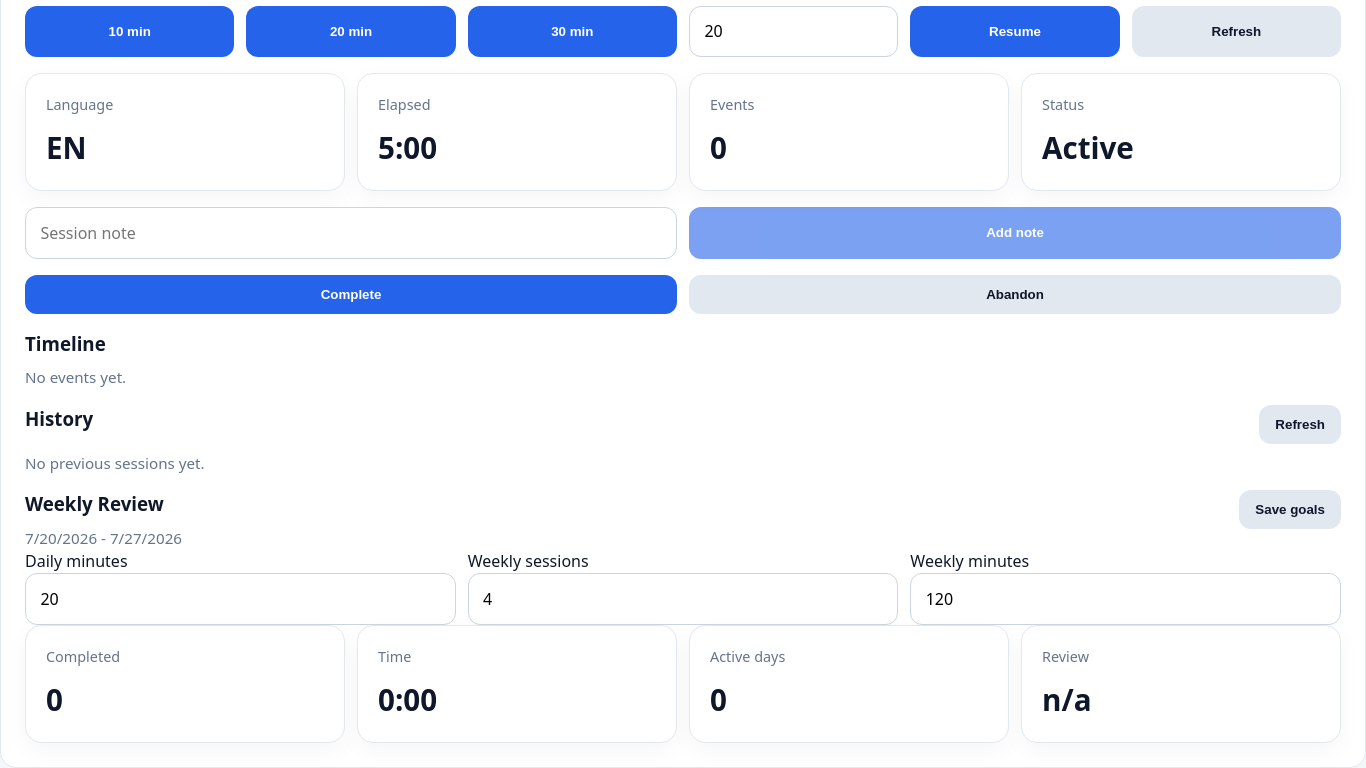
LearningSessionPanel.vue › validates goals locally and preserves canonical values after server validation failure
(page scrolled)
Replace the text in the number field labelled "Daily minutes" with "481" at (240, 599), box [25,573,456,625]
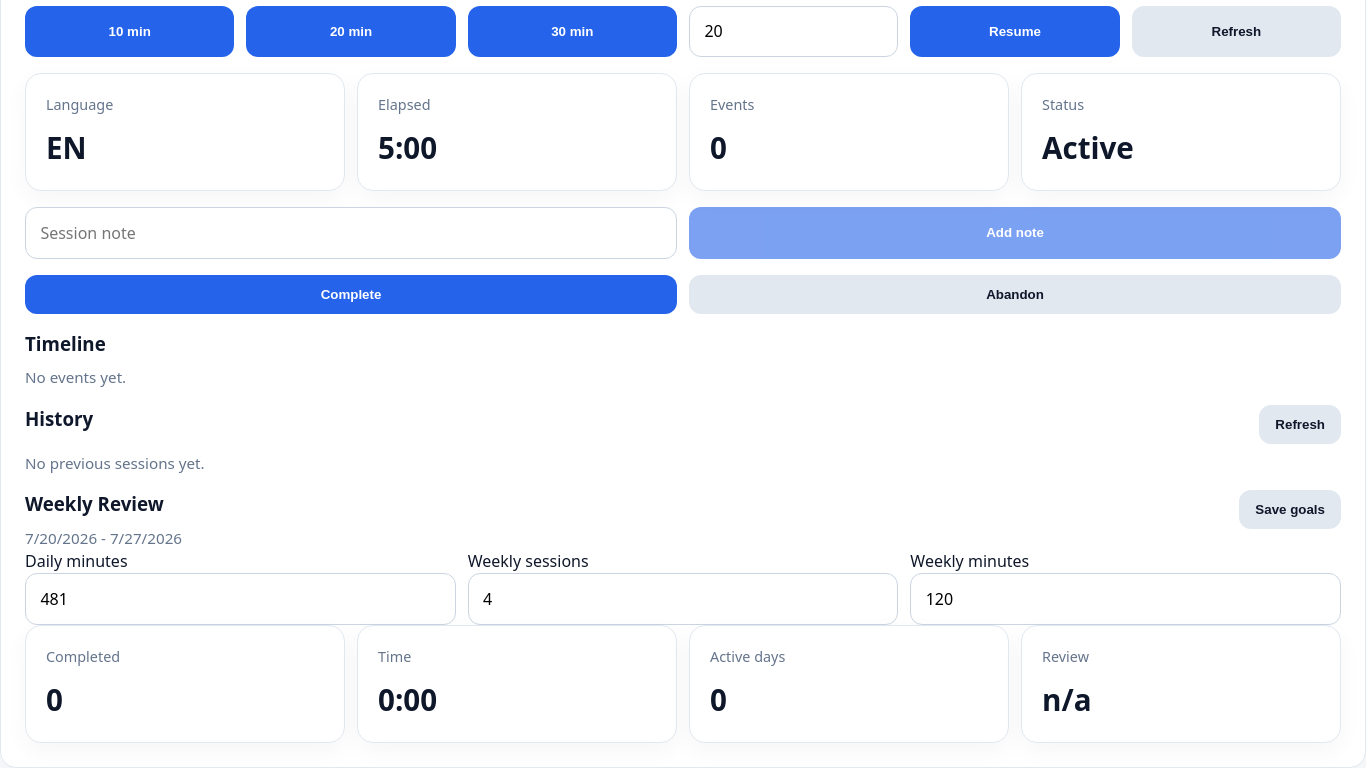
Click the button "Save goals" at (1290, 510), box [1239,490,1341,530]
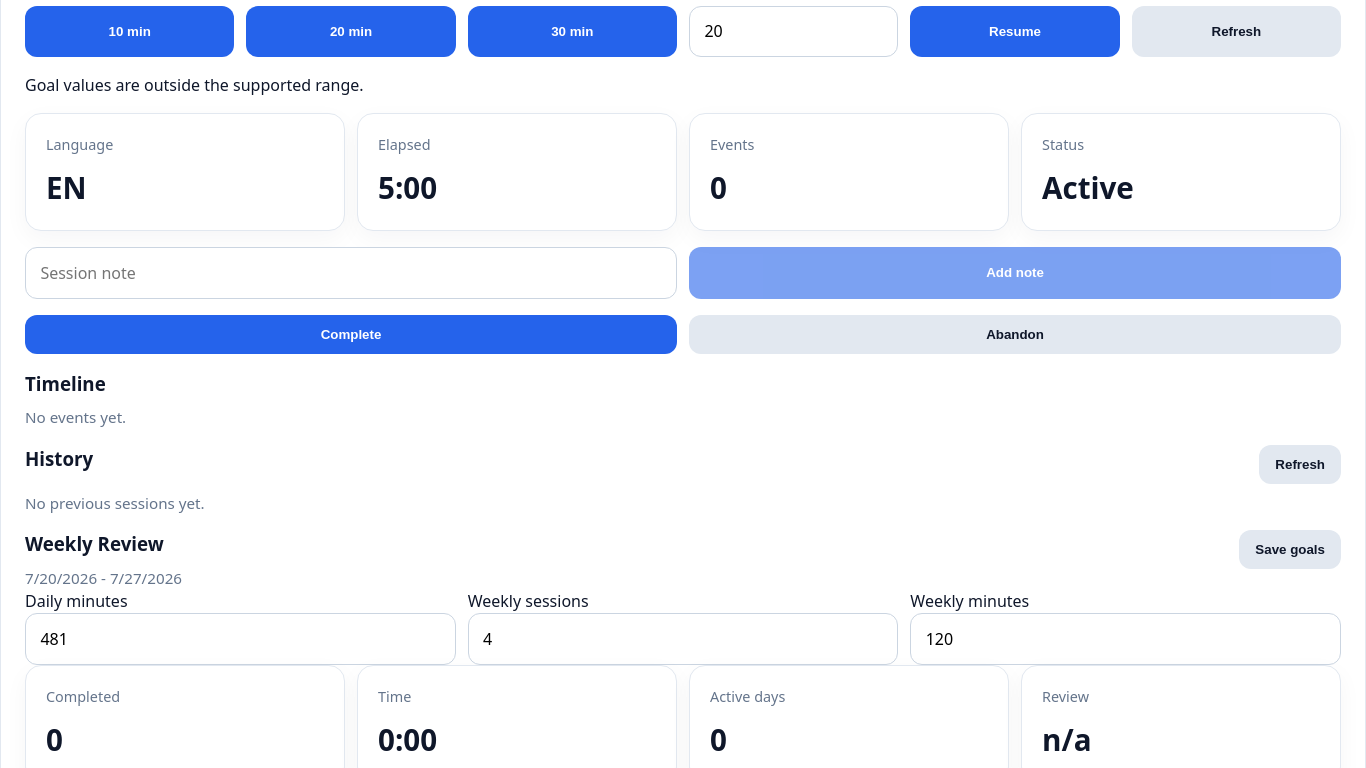
Expected: the text "Goal values are outside the supported range." is shown, [25,74,364,96]
Replace the text in the number field labelled "Daily minutes" with "30" at (240, 639), box [25,613,456,665]
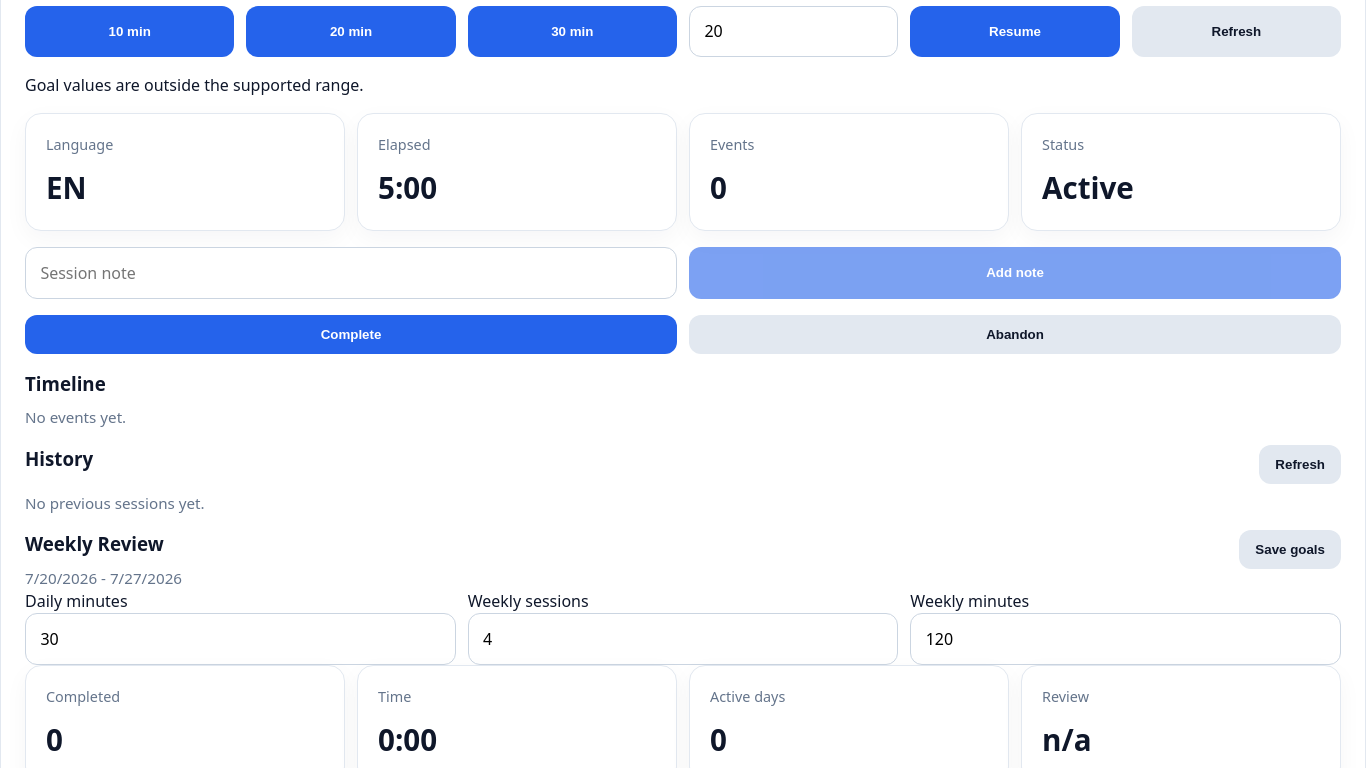
Click the button "Save goals" at (1290, 550), box [1239,530,1341,570]
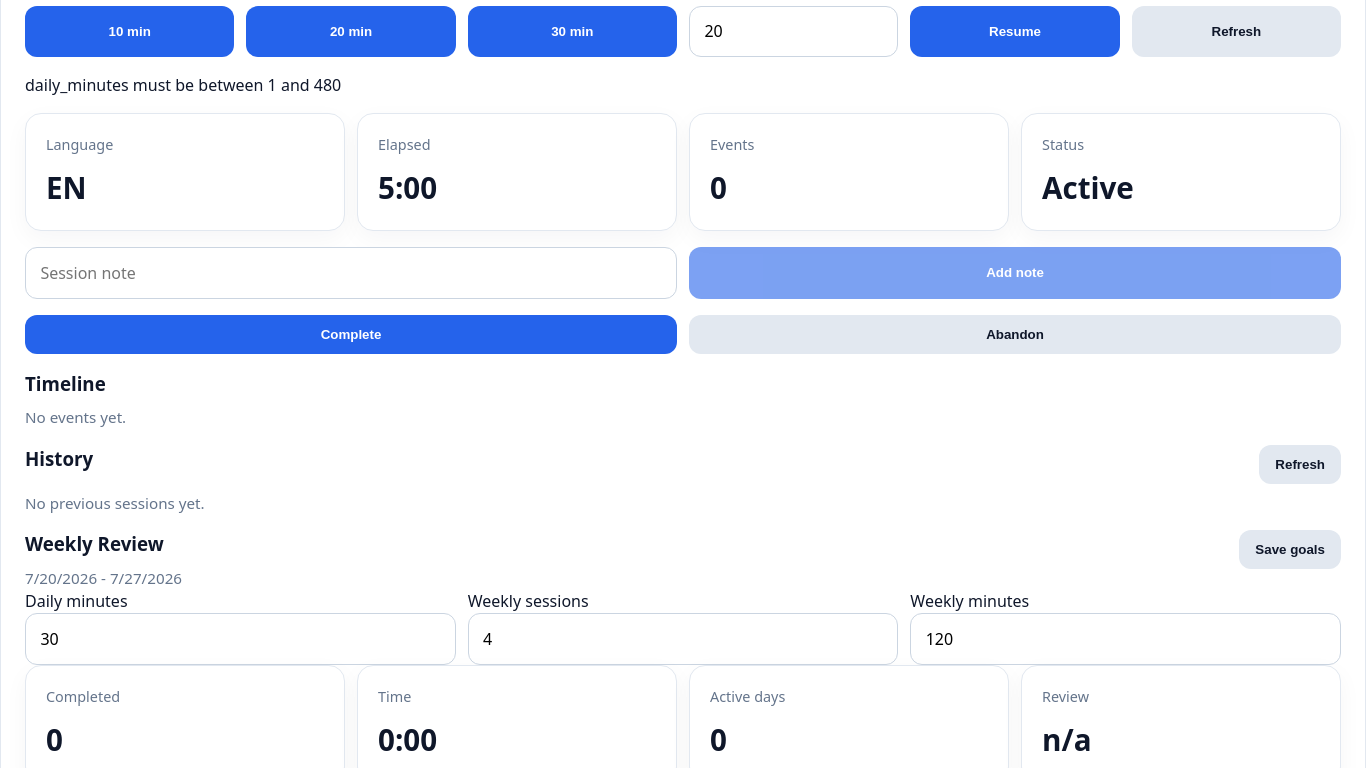
Expected: the text "daily_minutes must be between 1 and 480" is shown, [25,74,341,96]
